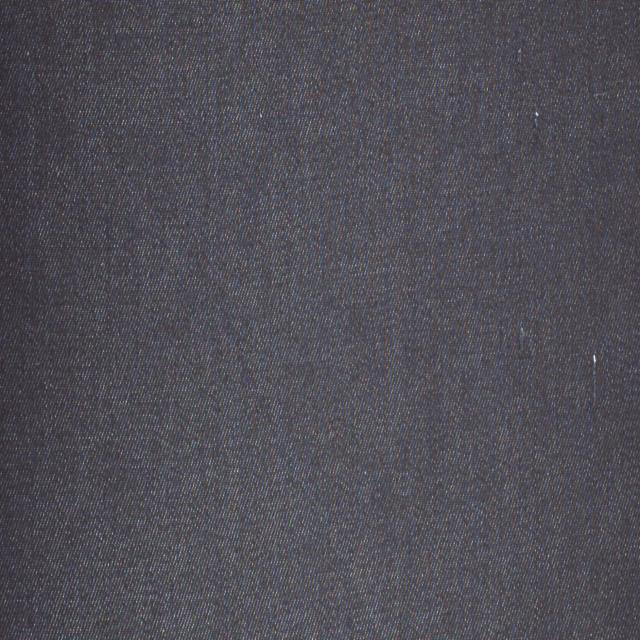Knot: (592, 351, 599, 410), (519, 321, 527, 358), (534, 109, 541, 128)
